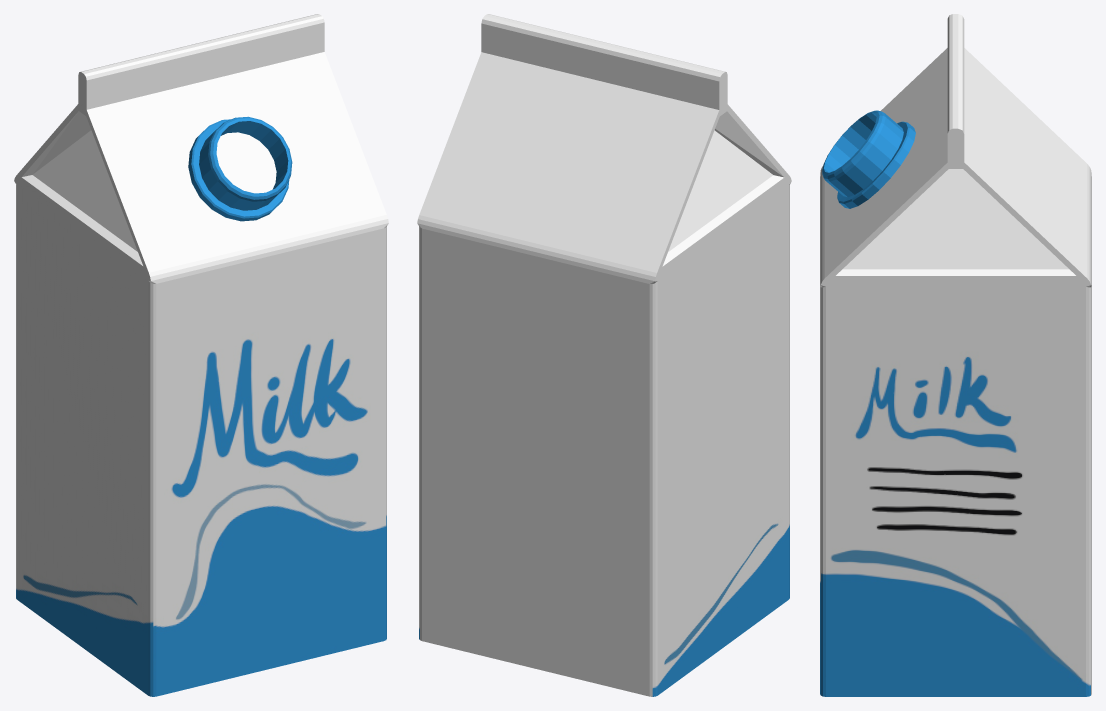
File: milk box no cap.fbx
3 renders of one model, left to right at view 1: azimuth 30°, elevation 25°; view 2: azimuth 150°, elevation 25°; view 3: azimuth 270°, elevation 25°, orthographic.
Visible parts, largest first — view 1: pCubeShape1; view 2: pCubeShape1; view 3: pCubeShape1.
Part boxes in pixels (x1,y1,x2,y2): pCubeShape1: [14, 14, 388, 696]; pCubeShape1: [417, 14, 791, 696]; pCubeShape1: [820, 14, 1091, 696].
Bounding box in the file's own units: 3.38 × 7.8 × 3.38.
